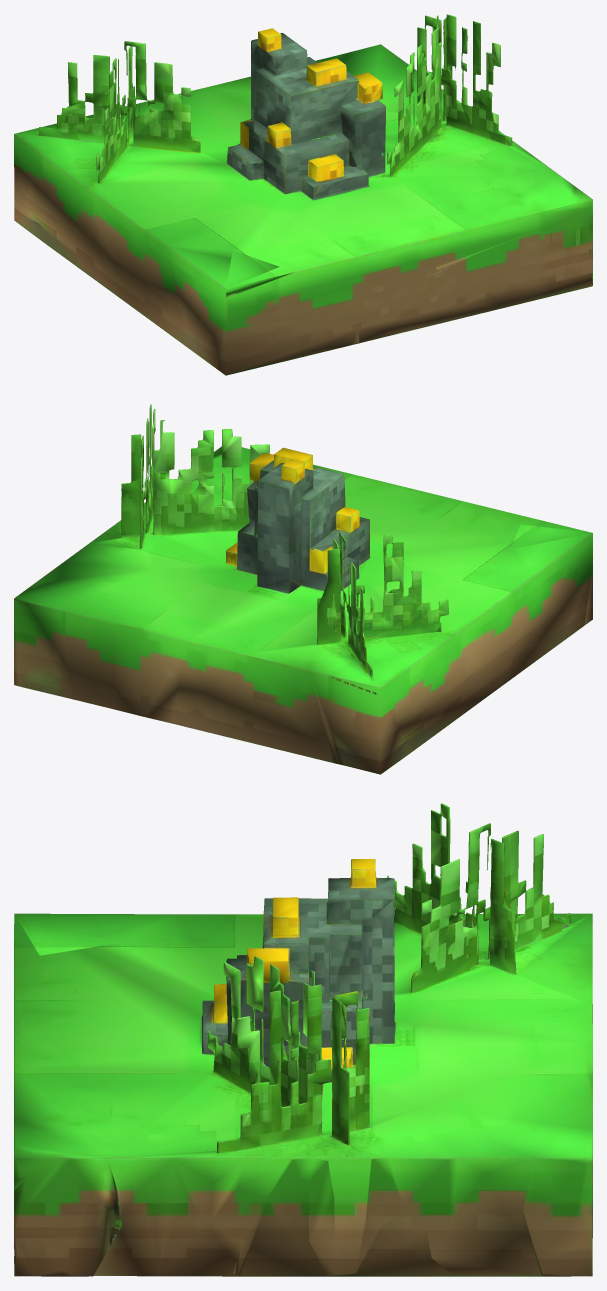
File: gold_ore.glb
3 views of the same model, one above another, from view 1: azimuth 30°, elevation 25°; view 2: azimuth 150°, elevation 25°; view 3: azimuth 270°, elevation 25° (orthographic). The views are drawn at different scales.
Parts seen in each view (by area): view 1: Mesh_0; view 2: Mesh_0; view 3: Mesh_0.
Boxes of the visible parts, <box> form: Mesh_0: <box>14,14,592,375</box>; Mesh_0: <box>14,404,592,774</box>; Mesh_0: <box>14,803,592,1276</box>.
Size of the model in its own units: 1.91 by 1.03 by 1.91.
1 material, 1 textured.
